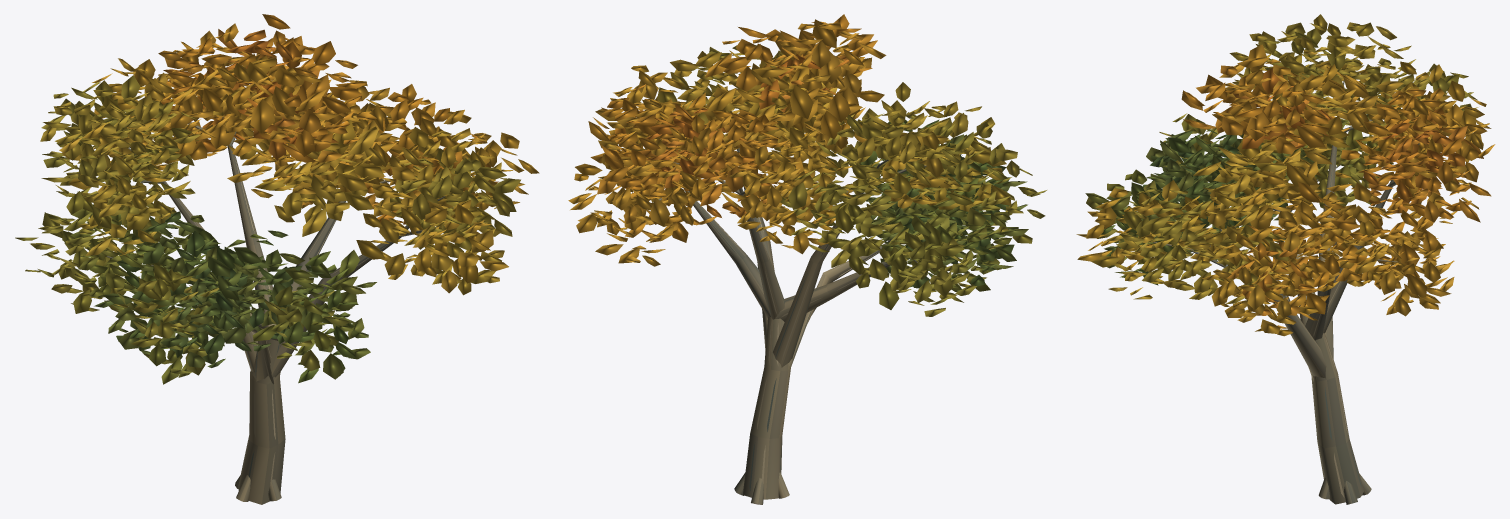
Rendered from ART_MoatTree_Airy.glb.
3 renders of one model, left to right at view 1: azimuth 30°, elevation 25°; view 2: azimuth 150°, elevation 25°; view 3: azimuth 270°, elevation 25°, orthographic. The views are drawn at different scales.
Visible parts, largest first — view 1: ART_MoatTree_Airy; view 2: ART_MoatTree_Airy; view 3: ART_MoatTree_Airy.
Boxes of the visible parts, x1,y1,x2,y2 form: ART_MoatTree_Airy: (15, 14, 539, 504); ART_MoatTree_Airy: (568, 14, 1046, 504); ART_MoatTree_Airy: (1076, 14, 1495, 504).
Size of the model in its own units: 9.61 by 9.3 by 8.2.
